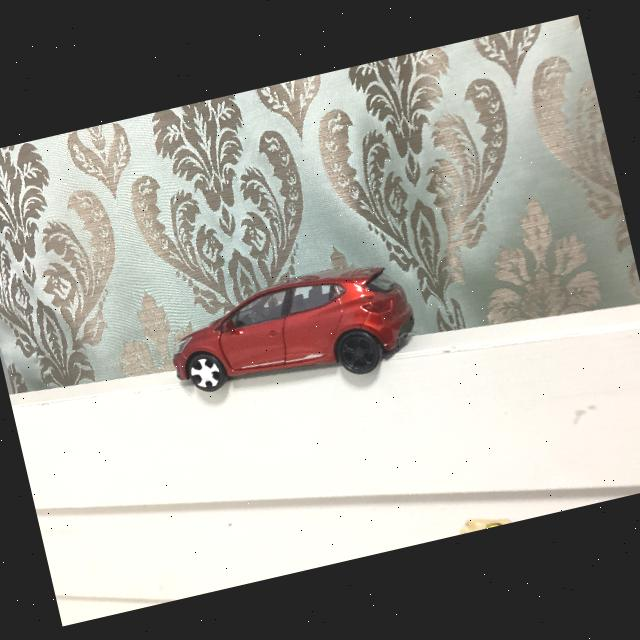Dogru_Jant: (338, 331, 378, 372)
Yanlis_Jant: (188, 354, 222, 392)
